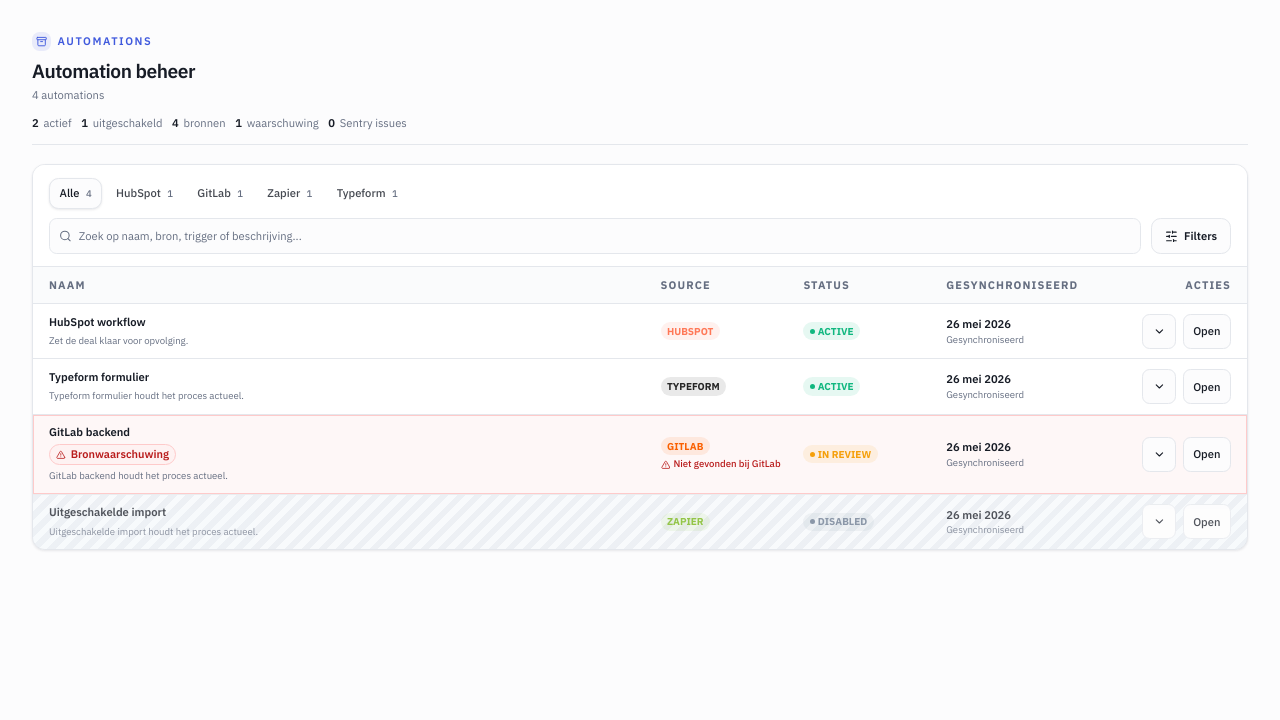
Test: Automations overview UI › filters rows by source without merging source and status
Click the tab "Typeform 1". click: (367,193)
box: left=326, top=178, right=408, bottom=209
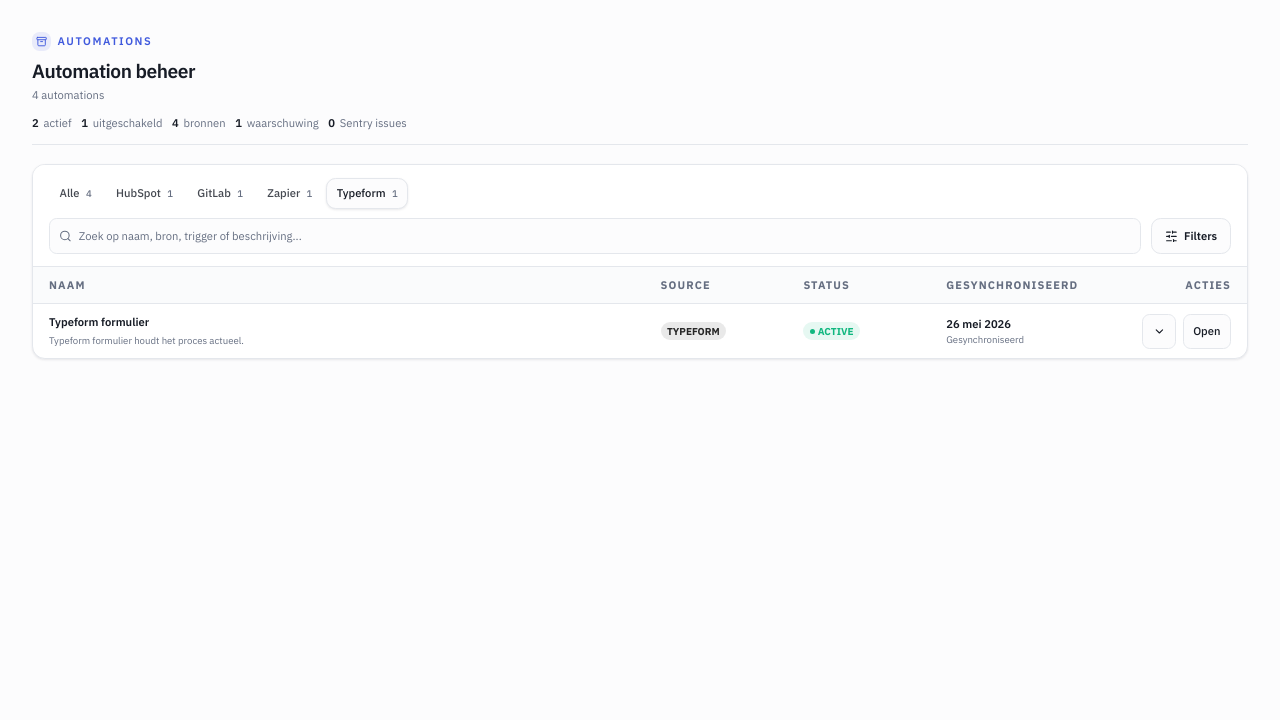
Expected: the row "Typeform formulier" is shown, left=33, top=304, right=1247, bottom=358
Expected: the text "HubSpot workflow" is gone
